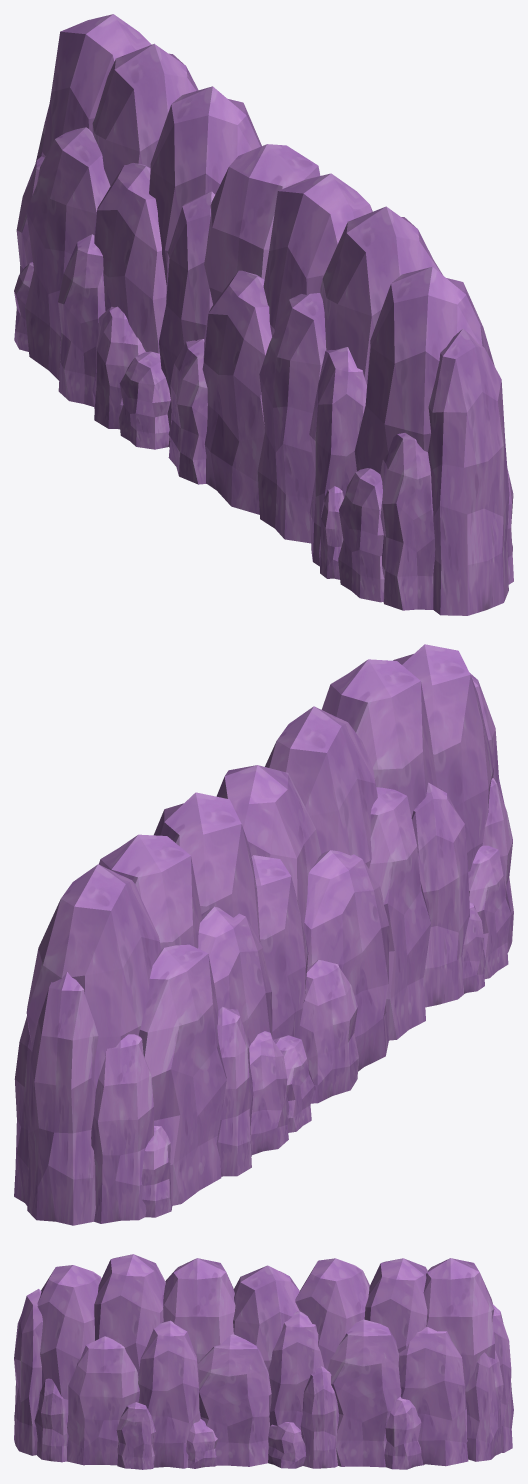
File: ModelWall_Omote_Purple.fbx
3 renders of one model, top to bottom at view 1: azimuth 30°, elevation 25°; view 2: azimuth 150°, elevation 25°; view 3: azimuth 270°, elevation 25°, orthographic. The views are drawn at different scales.
Parts seen in each view (by area): view 1: Kabe_Omote_Purple; view 2: Kabe_Omote_Purple; view 3: Kabe_Omote_Purple.
Part boxes in pixels (x1,y1,x2,y2): Kabe_Omote_Purple: [14, 14, 513, 615]; Kabe_Omote_Purple: [14, 644, 513, 1225]; Kabe_Omote_Purple: [14, 1254, 513, 1469].
Bounding box in the file's own units: 23.23 × 38.93 × 92.04.
Materials: 1 (1 with a texture image).
